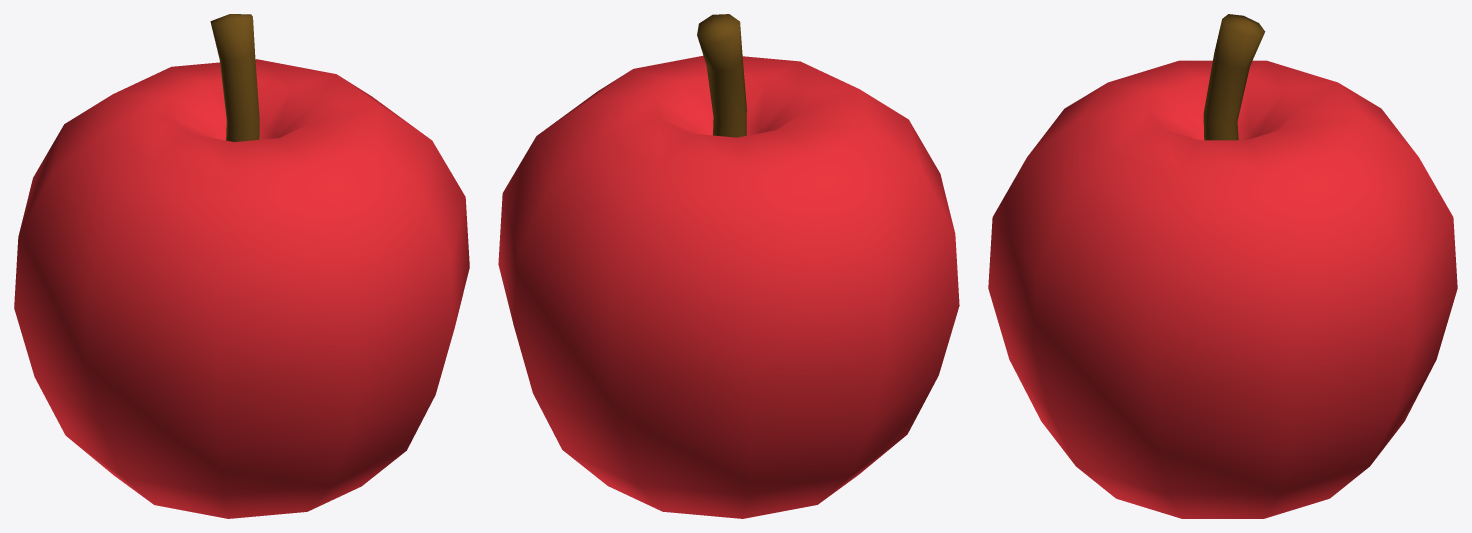
Rendered from poma.fbx.
The picture shows the model from 3 angles, left to right: view 1: azimuth 30°, elevation 25°; view 2: azimuth 150°, elevation 25°; view 3: azimuth 270°, elevation 25°; orthographic projection.
Visible parts, largest first — view 1: Poma, Tija; view 2: Poma, Tija; view 3: Poma, Tija.
Part boxes in pixels (x1,y1,x2,y2): Poma: (14, 59, 469, 518); Tija: (210, 14, 259, 141); Poma: (498, 55, 959, 518); Tija: (697, 14, 746, 137); Poma: (988, 60, 1457, 518); Tija: (1203, 14, 1265, 140).
Size of the model in its own units: 18.43 by 20.97 by 19.37.
